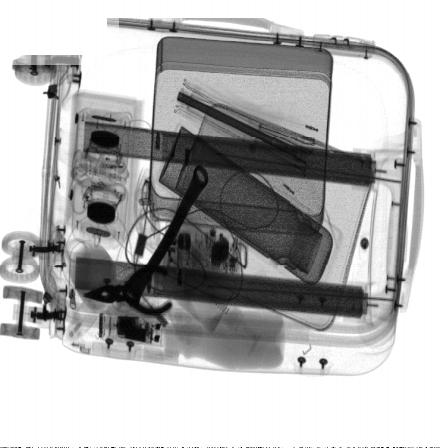Pliers: (83, 264, 173, 318)
Wrench: (122, 164, 208, 305)
